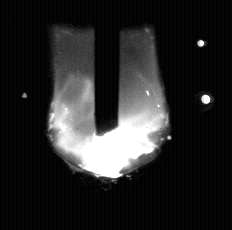arame: (95, 0, 120, 136)
poca: (49, 0, 168, 230)
